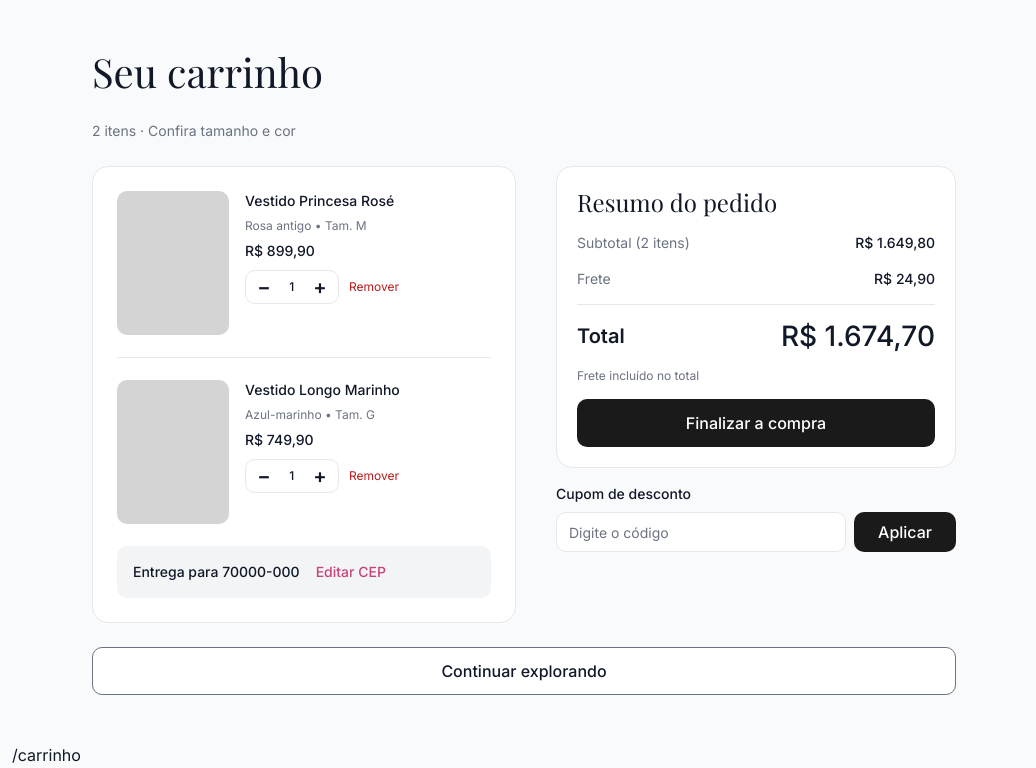
Test: CarrinhoPage › com itens › + aumenta a quantidade e recalcula
The width and height of the screenshot is (1036, 768).
Step 1. Click the button named "Aumentar quantidade de Vestido Princesa Rosé" → (320, 287), box x1=306 y1=271 x2=334 y2=303
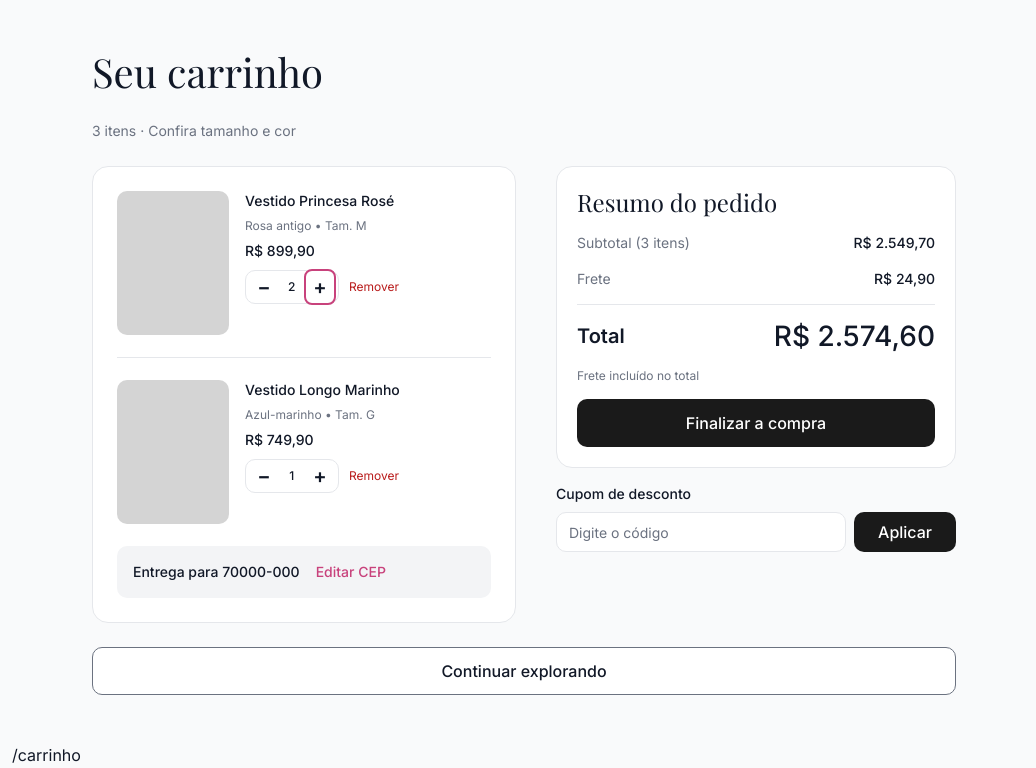
Expected: the text "3 itens · Confira tamanho e cor" is shown, x1=92 y1=122 x2=296 y2=139
